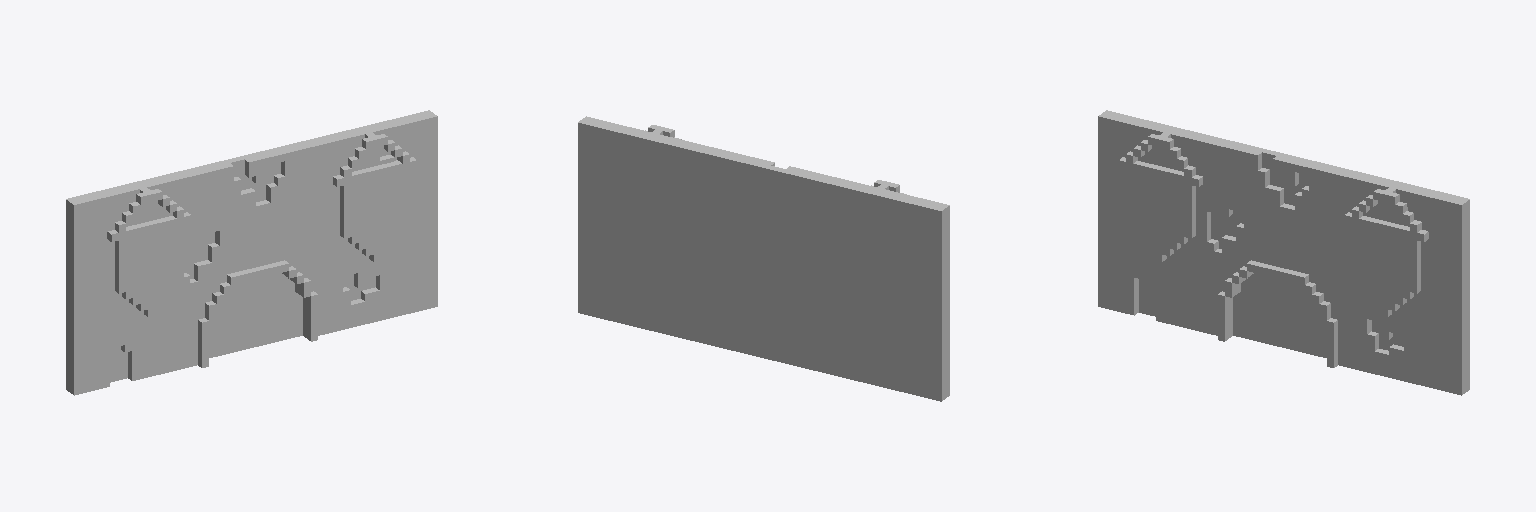
Rendered from HHR.obj.
3 renders of one model, left to right at view 1: azimuth 30°, elevation 25°; view 2: azimuth 150°, elevation 25°; view 3: azimuth 330°, elevation 25°, orthographic.
Size of the model in its own units: 50 by 25 by 4.